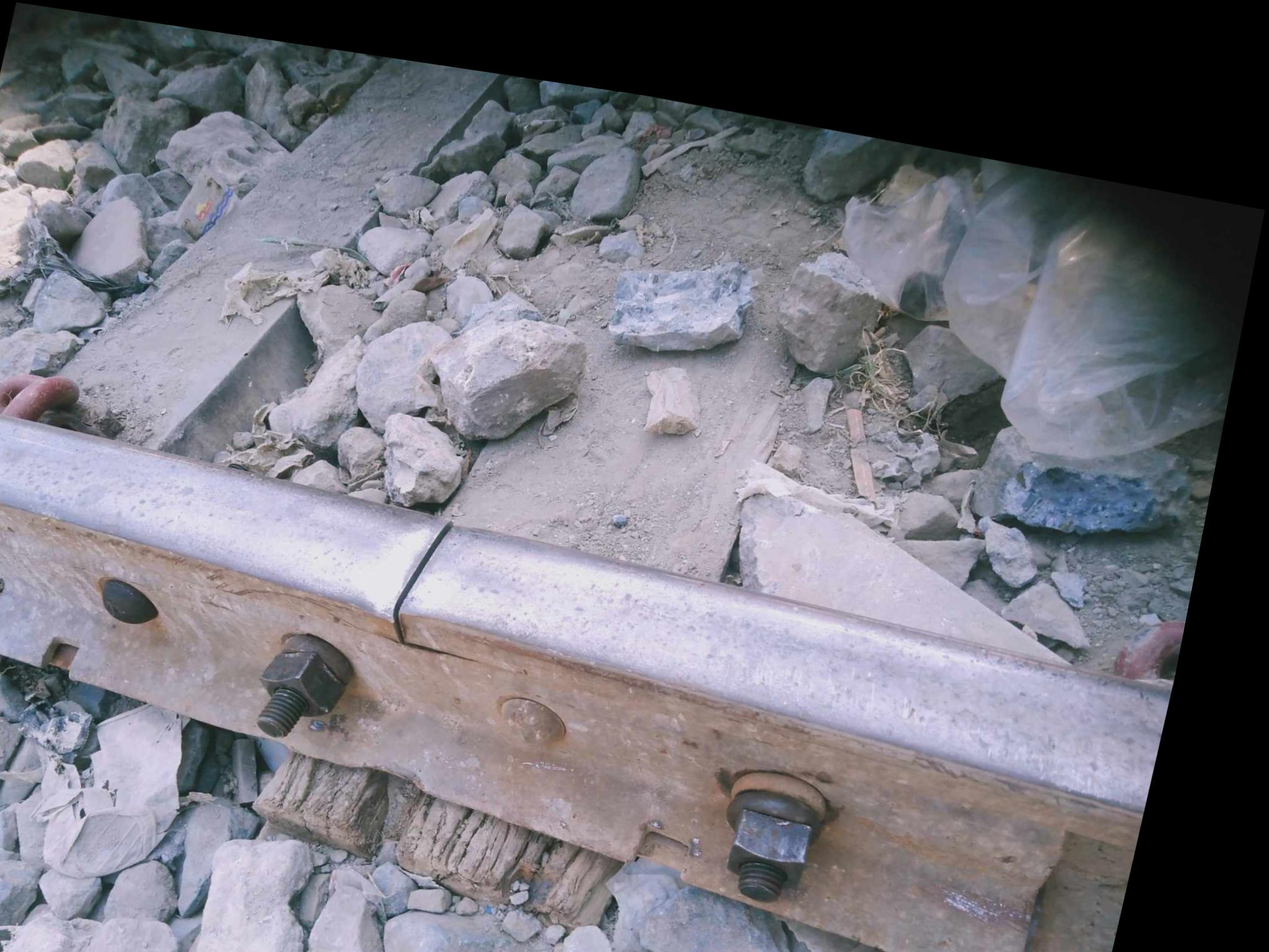person: (334, 462, 559, 676)
